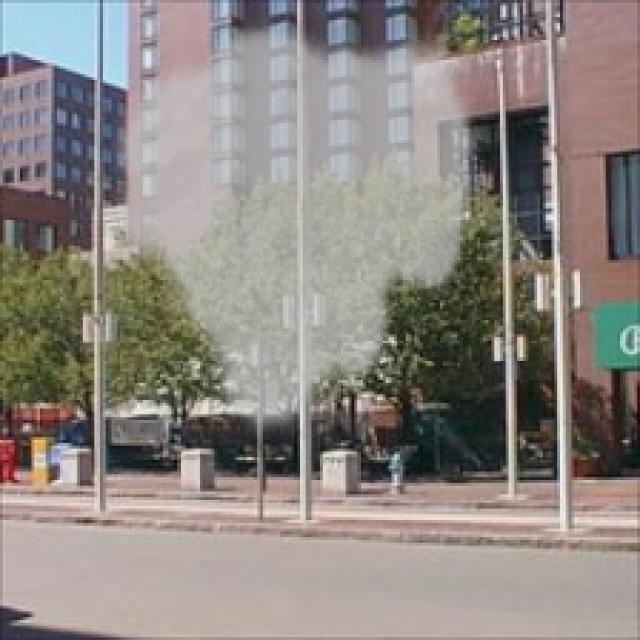Smoke: (103, 20, 483, 443)
